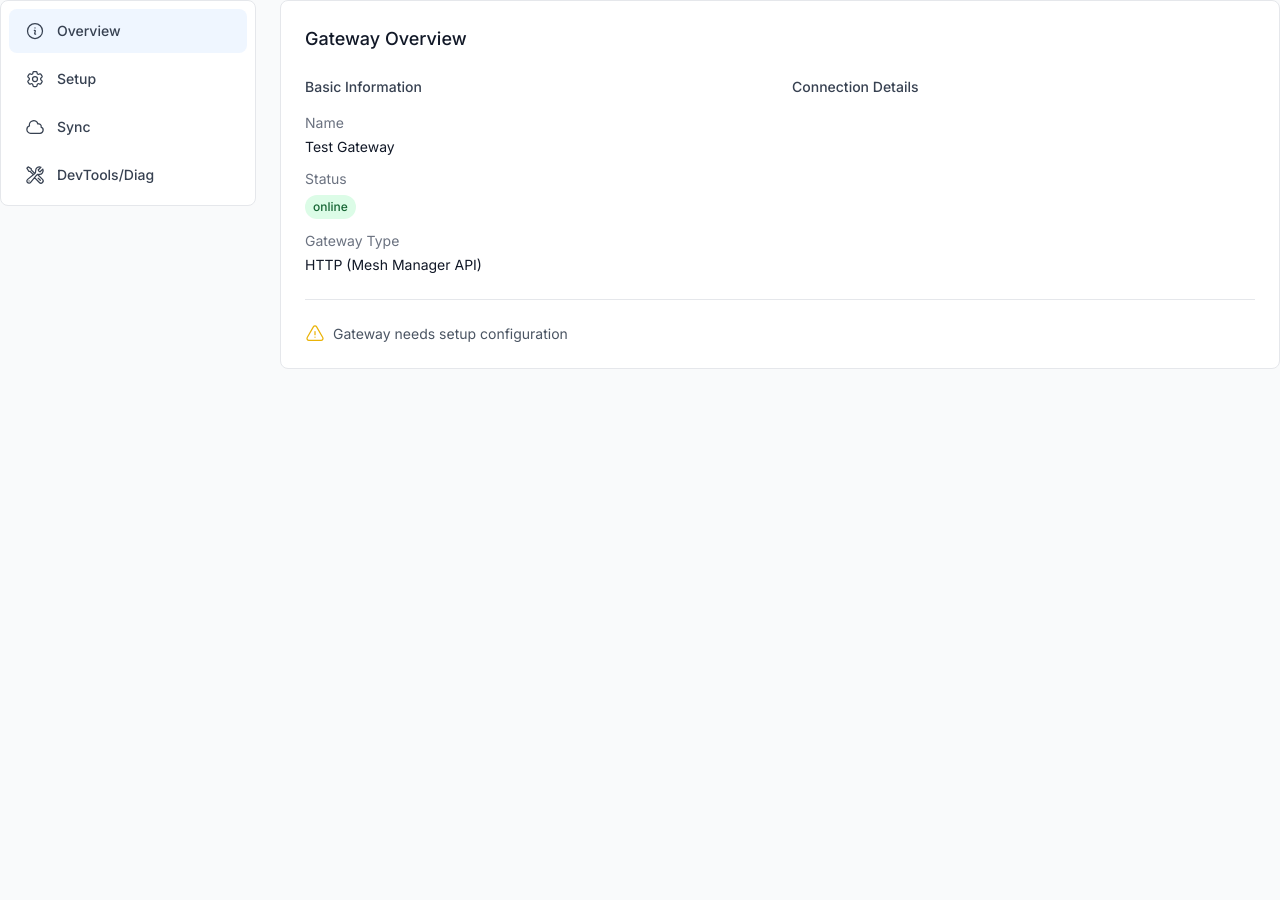
Test: FacilityGatewayTab › Gateway Types › should show HTTP-specific fields for HTTP gateway type
Note: Click the Setup tab
Click the button "Setup".
click(128, 79)  # box top-left (9, 57), bottom-right (247, 101)
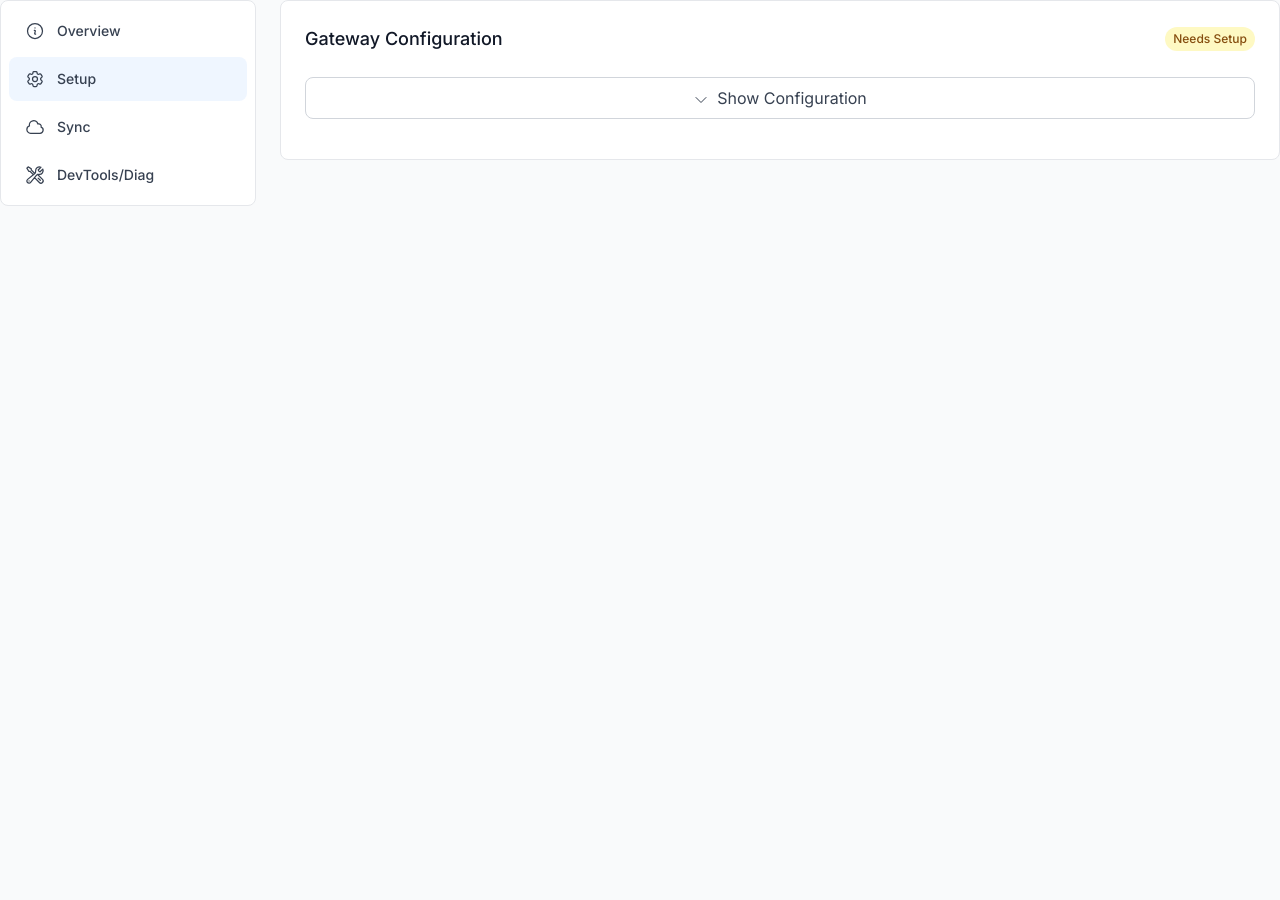
Now the button "Show Configuration" is shown
Click the button "Show Configuration".
click(780, 98)  # box top-left (305, 77), bottom-right (1255, 119)
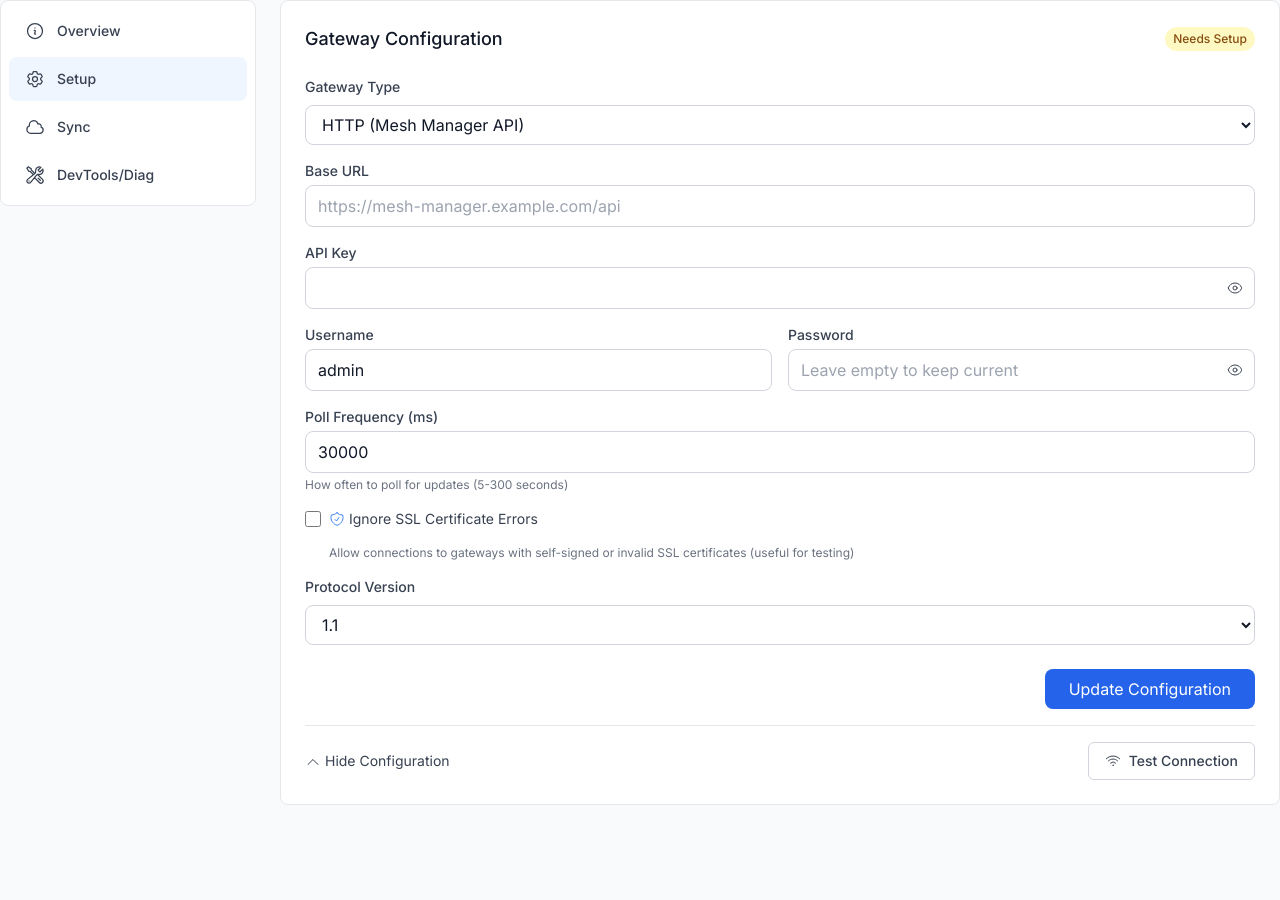
Now the text "Base URL" is shown, box top-left (305, 162), bottom-right (369, 179)
Now the text "API Key" is shown, box top-left (305, 244), bottom-right (356, 261)
Now the text "Poll Frequency (ms)" is shown, box top-left (305, 408), bottom-right (438, 425)
